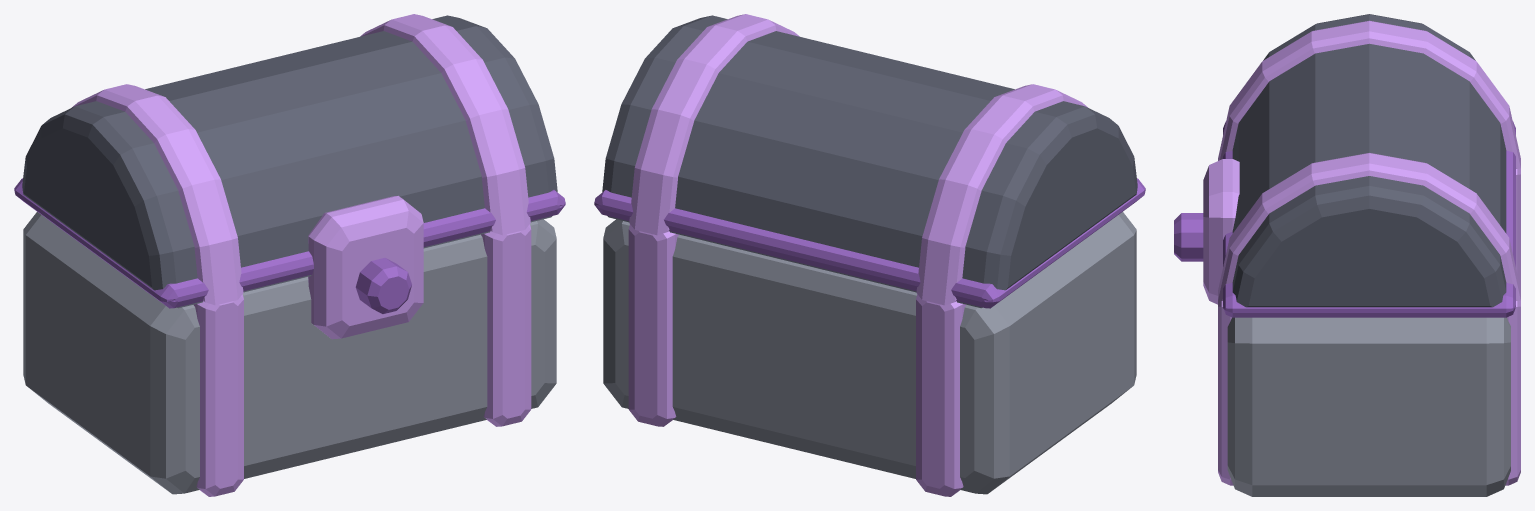
File: game-ui-icon-library-chest-epic-2cf3f22f__19003.glb
3 views of the same model, side by side, from view 1: azimuth 30°, elevation 25°; view 2: azimuth 150°, elevation 25°; view 3: azimuth 270°, elevation 25° (orthographic). The views are drawn at different scales.
Visible parts, largest first — view 1: chest-epic; view 2: chest-epic; view 3: chest-epic.
Boxes of the visible parts, left/top/right/bottom form: chest-epic: left=14, top=14, right=565, bottom=496; chest-epic: left=594, top=14, right=1145, bottom=496; chest-epic: left=1174, top=14, right=1520, bottom=496.
Size of the model in its own units: 0.98 by 0.7925 by 0.7731.
